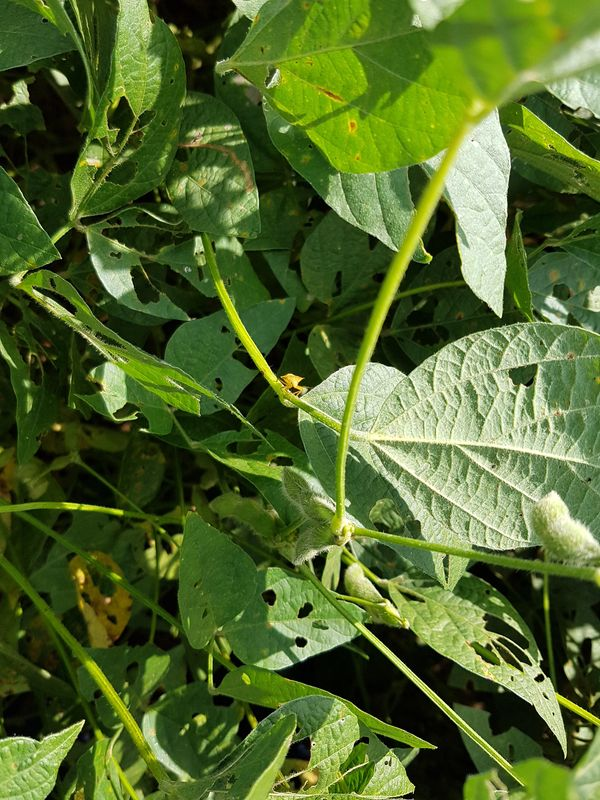Euschistus_heros_ninfa: (271, 370, 314, 405)
